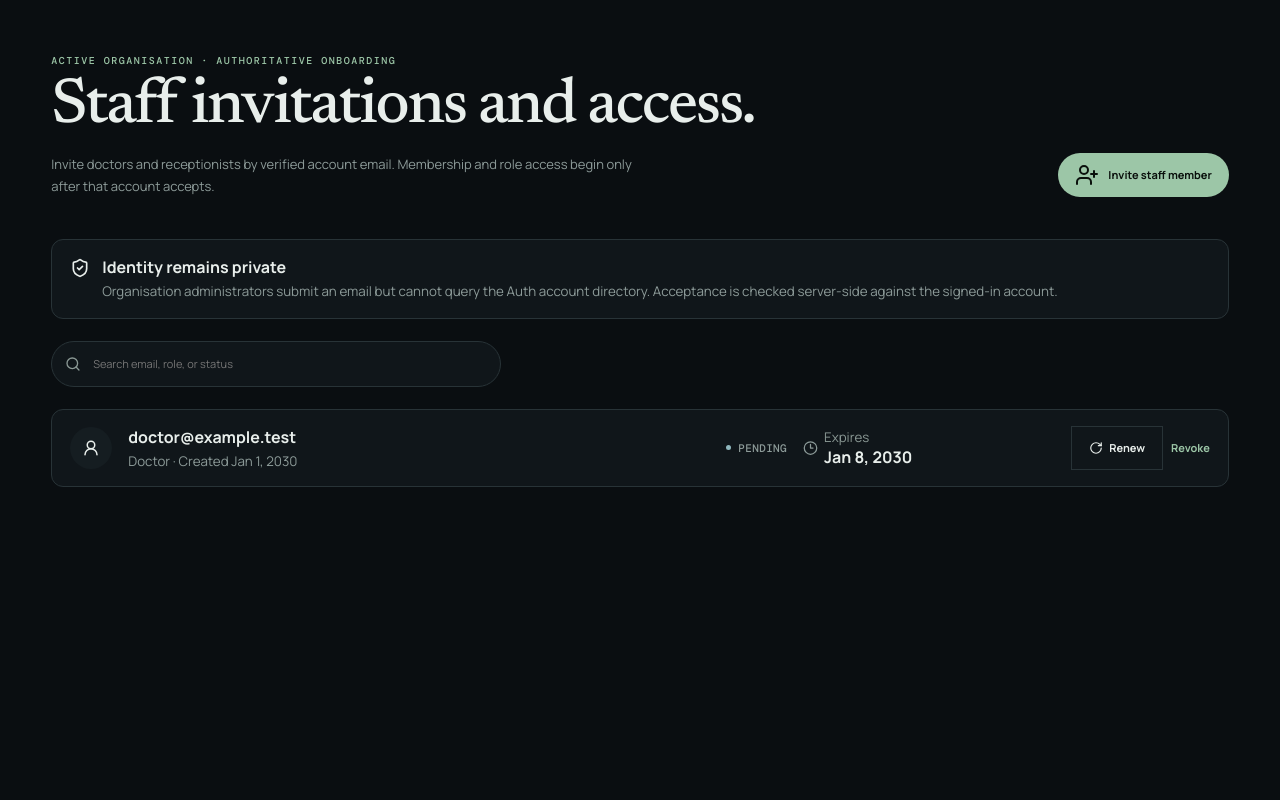
Test case: Organisation staff invitations page › creates only an allowed doctor or receptionist invitation
The image size is (1280, 800).
Expected: the text "doctor@example.test" is shown, [128,426,296,448]
Click the button "Invite staff member".
click(1144, 175)  # box [1058,153,1229,197]
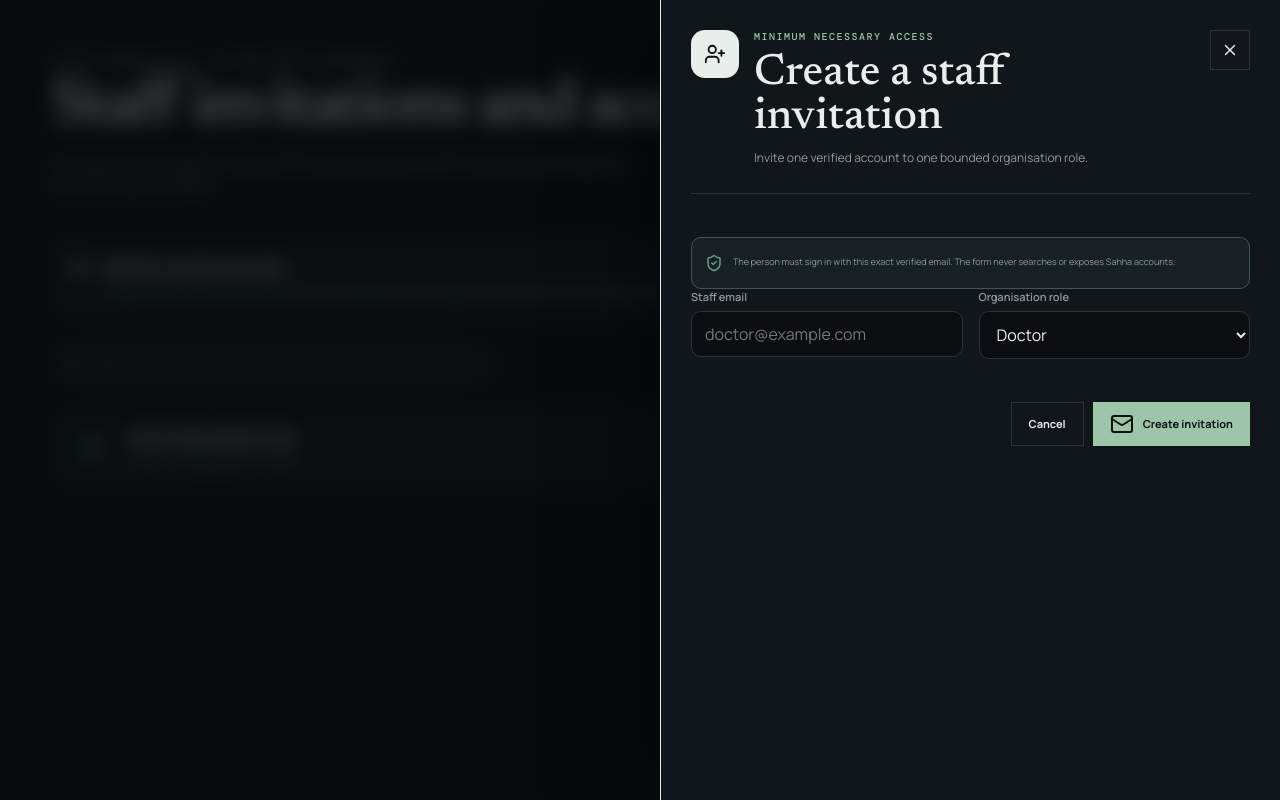
Type "Reception@Example.Test" into the field labelled "Staff email".
click(827, 334); type("Reception@Example.Test")  # box [691,311,962,357]
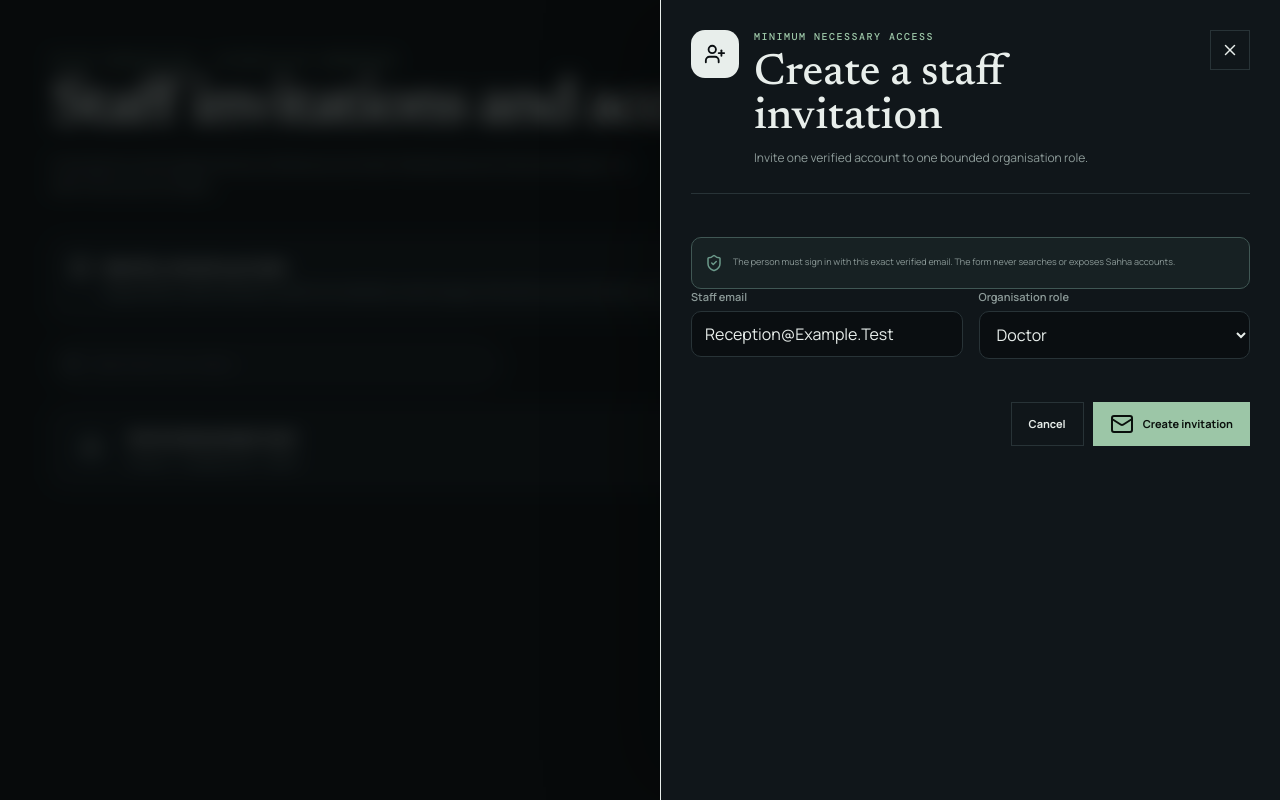
Select "Receptionist" in the dropdown labelled "Organisation role" at (1114, 335), box [978,311,1250,359]
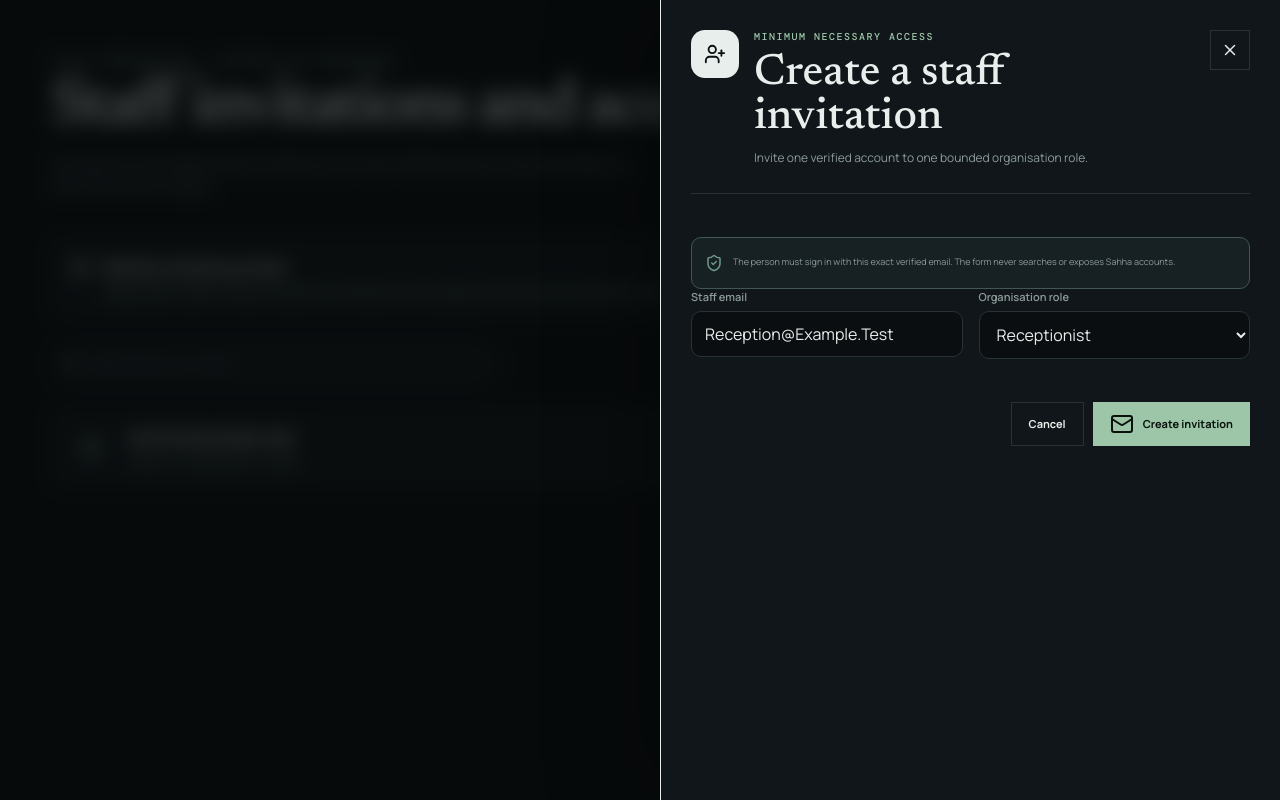
Click the button "Create invitation".
click(1171, 424)  # box [1093,402,1250,446]
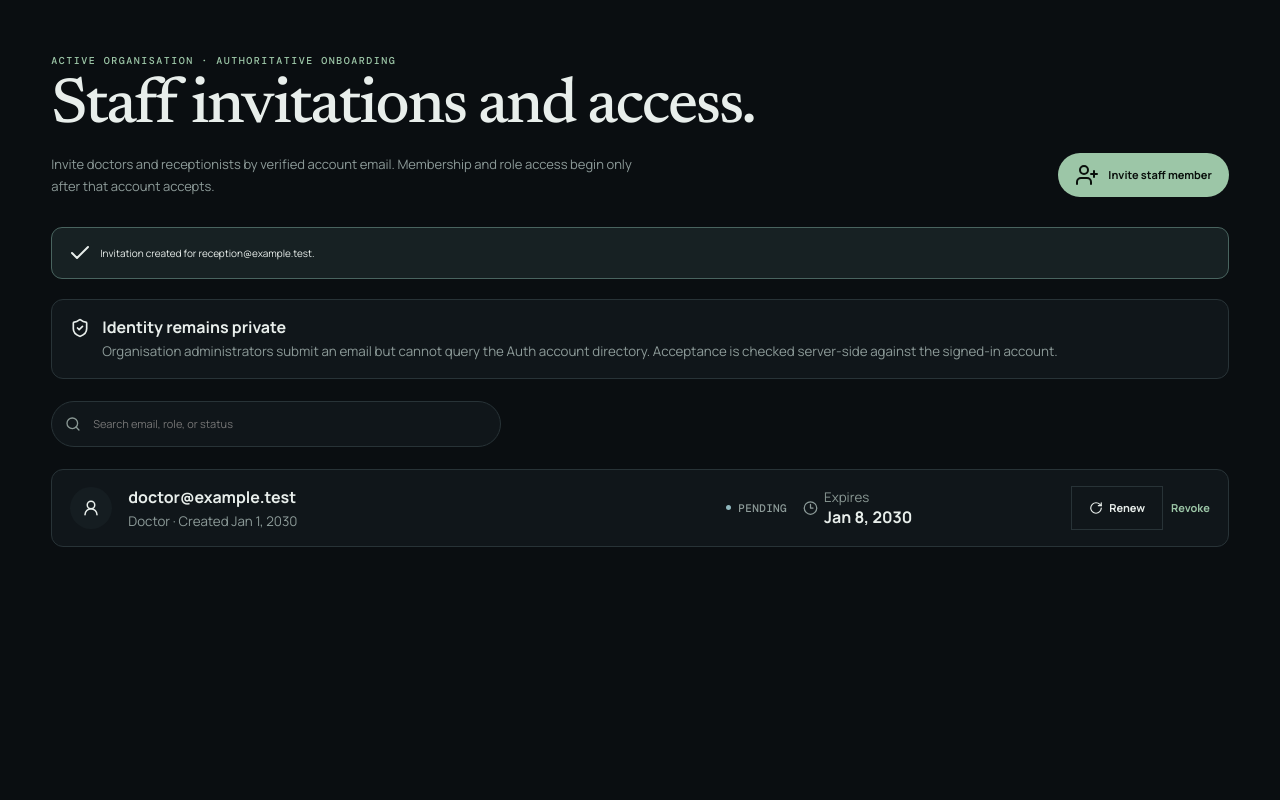
Now the text "Invitation created for reception@example.test." is shown, box [51,227,1229,279]
